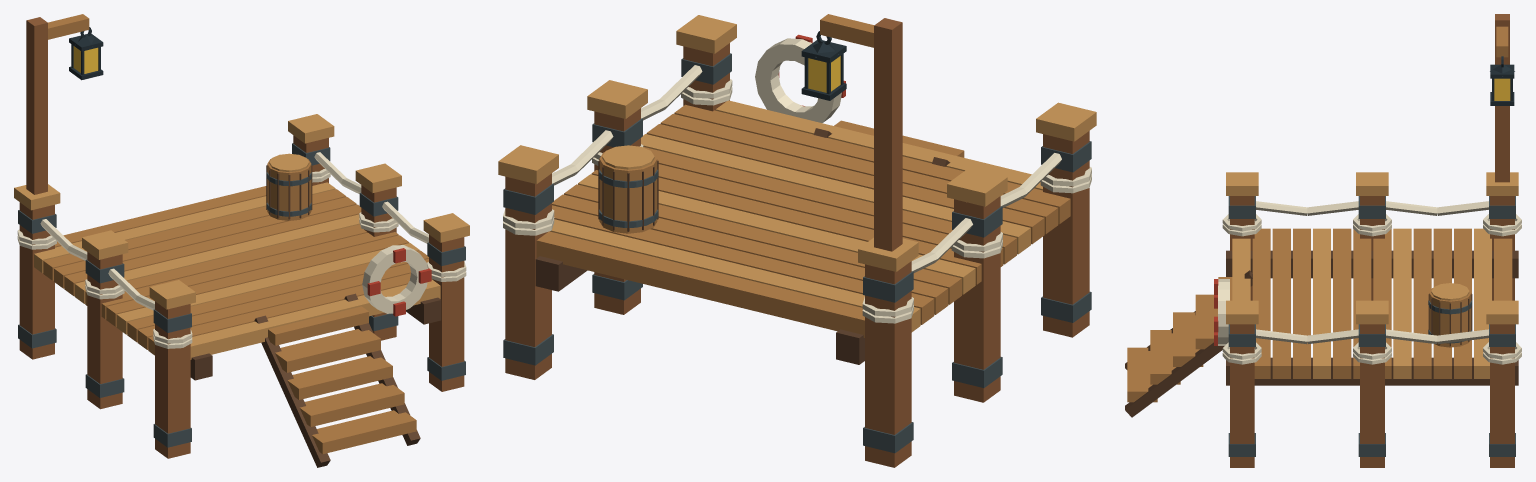
Rendered from main_dock_kit.glb.
The picture shows the model from 3 angles, left to right: view 1: azimuth 30°, elevation 25°; view 2: azimuth 150°, elevation 25°; view 3: azimuth 270°, elevation 25°; orthographic projection. The views are drawn at different scales.
Visible parts, largest first — view 1: platform__wood2.002, stairs__wood2.001, platform__wood3.002, pile_0__wood.002, lamp__wood.002, pile_1__wood.002, pile_2__wood.002, pile_4__wood.002, stairs__wood_dark.001, life_ring__cream.002, rope_rails__cream.002, body__wood2.007 (+22 smaller); view 2: platform__wood2.002, platform__wood3.002, pile_2__wood.002, lamp__wood.002, pile_3__wood.002, pile_4__wood.002, pile_0__wood.002, rope_rails__cream.002, life_ring__cream.002, body__wood2.007, platform__wood_dark.002, pile_3__metal.002 (+25 smaller); view 3: platform__wood2.002, platform__wood3.002, stairs__wood2.001, rope_rails__cream.002, platform__wood_dark.002, pile_1__wood.002, pile_3__wood.002, pile_5__wood.002, lamp__wood.002, stairs__wood_dark.001, body__wood2.007, pile_1__wood3.002 (+24 smaller).
Boxes of the visible parts, x1=… form: platform__wood2.002: x1=43, y1=186, x2=428, y2=355; stairs__wood2.001: x1=268, y1=306, x2=416, y2=454; platform__wood3.002: x1=34, y1=182, x2=440, y2=359; pile_0__wood.002: x1=155, y1=301, x2=190, y2=458; lamp__wood.002: x1=26, y1=17, x2=47, y2=194; pile_1__wood.002: x1=429, y1=234, x2=464, y2=391; pile_2__wood.002: x1=19, y1=202, x2=54, y2=359; pile_4__wood.002: x1=87, y1=252, x2=122, y2=409; stairs__wood_dark.001: x1=254, y1=293, x2=420, y2=467; life_ring__cream.002: x1=362, y1=245, x2=427, y2=313; rope_rails__cream.002: x1=40, y1=152, x2=428, y2=310; body__wood2.007: x1=267, y1=158, x2=311, y2=220; platform__wood2.002: x1=536, y1=104, x2=1070, y2=337; platform__wood3.002: x1=550, y1=100, x2=1042, y2=332; pile_2__wood.002: x1=865, y1=261, x2=911, y2=467; lamp__wood.002: x1=874, y1=18, x2=902, y2=251; pile_3__wood.002: x1=505, y1=173, x2=551, y2=379; pile_4__wood.002: x1=954, y1=196, x2=1000, y2=402; pile_0__wood.002: x1=1043, y1=131, x2=1089, y2=337; rope_rails__cream.002: x1=552, y1=65, x2=1061, y2=272; life_ring__cream.002: x1=755, y1=38, x2=841, y2=122; body__wood2.007: x1=599, y1=152, x2=657, y2=233; platform__wood_dark.002: x1=535, y1=256, x2=864, y2=364; pile_3__metal.002: x1=503, y1=183, x2=553, y2=365; platform__wood2.002: x1=1252, y1=228, x2=1512, y2=378; platform__wood3.002: x1=1232, y1=228, x2=1491, y2=378; stairs__wood2.001: x1=1127, y1=277, x2=1232, y2=402; rope_rails__cream.002: x1=1256, y1=201, x2=1488, y2=344; platform__wood_dark.002: x1=1226, y1=250, x2=1518, y2=385; pile_1__wood.002: x1=1230, y1=324, x2=1254, y2=467; pile_3__wood.002: x1=1490, y1=324, x2=1514, y2=467; pile_5__wood.002: x1=1360, y1=324, x2=1384, y2=467; lamp__wood.002: x1=1495, y1=14, x2=1509, y2=182; stairs__wood_dark.001: x1=1125, y1=270, x2=1252, y2=417; body__wood2.007: x1=1429, y1=288, x2=1471, y2=347; pile_1__wood3.002: x1=1226, y1=300, x2=1258, y2=324.
Size of the model in its own units: 3.16 by 3.23 by 3.66.
